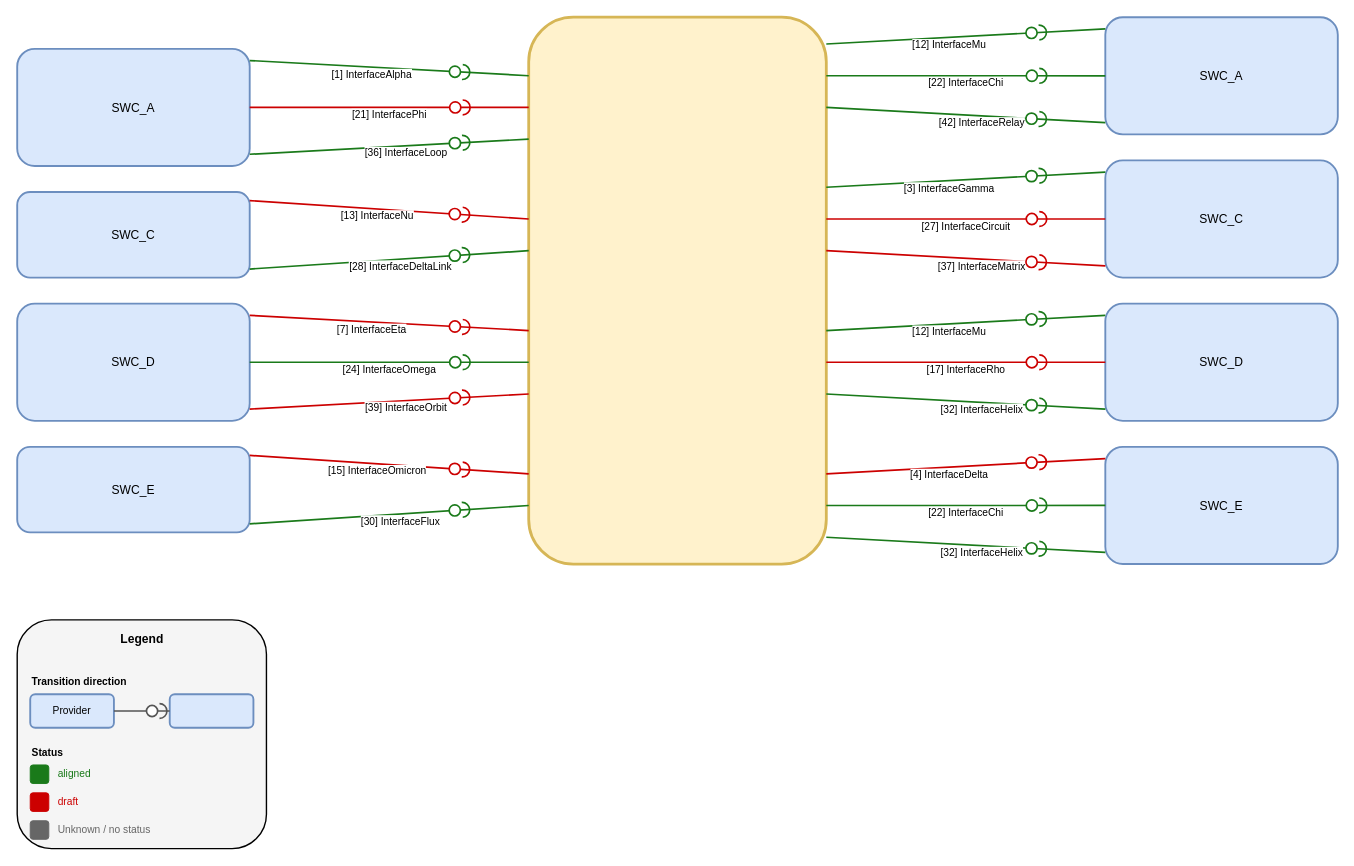
The diagram is 1354 pixels wide and 866 high, and some of its shapes have lost their labels. Here are the shapes that lost their labels. From the top down, the box of each, then its label:
(527, 15, 827, 565): SWC_B
(168, 693, 254, 728): Consumer
